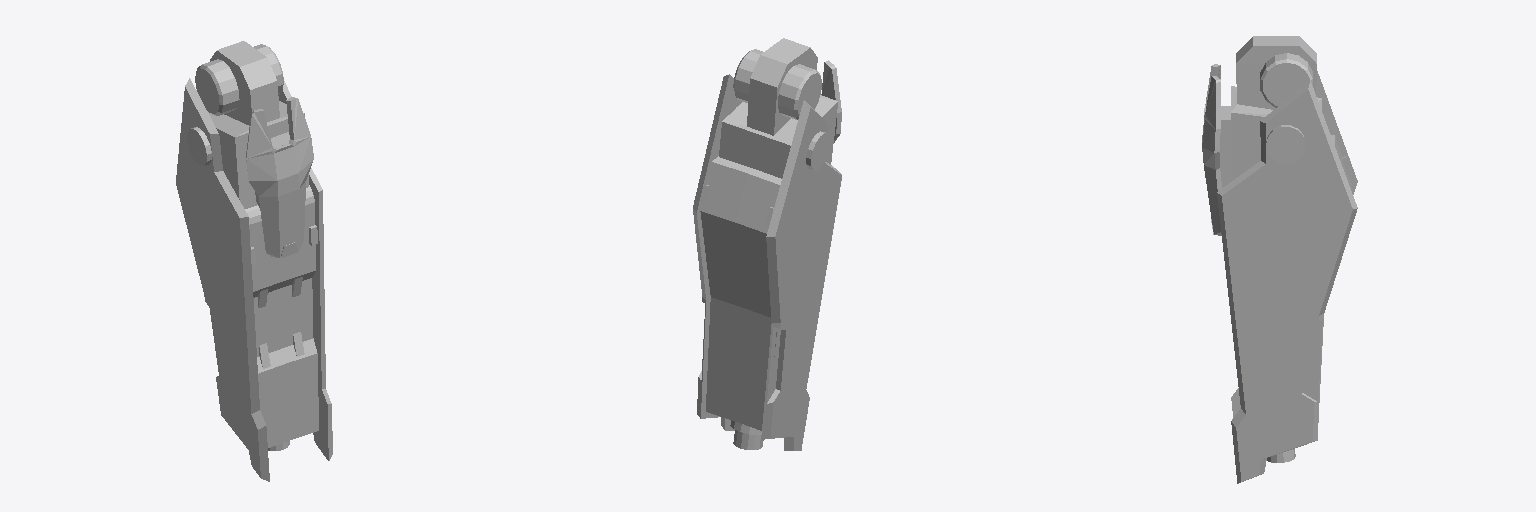
3 views of the same model, side by side, from view 1: azimuth 30°, elevation 25°; view 2: azimuth 150°, elevation 25°; view 3: azimuth 270°, elevation 25° (orthographic).
Visible parts, largest first — view 1: S1 legs polySurface133, S1 legs polySurface129, S1 legs polySurface84, S1 legs polySurface111, S1 legs polySurface132, S1 legs polySurface105, S1 legs polySurface86; view 2: S1 legs polySurface129, S1 legs polySurface133, S1 legs polySurface111, S1 legs polySurface132, S1 legs polySurface105, S1 legs polySurface84, S1 legs polySurface86; view 3: S1 legs polySurface132, S1 legs polySurface111, S1 legs polySurface84, S1 legs polySurface105, S1 legs polySurface86, S1 legs polySurface133, S1 legs polySurface88.
Boxes of the visible parts, x1=… form: S1 legs polySurface133: x1=176, y1=78, x2=269, y2=481; S1 legs polySurface129: x1=245, y1=185, x2=318, y2=447; S1 legs polySurface84: x1=246, y1=97, x2=313, y2=257; S1 legs polySurface111: x1=207, y1=41, x2=308, y2=208; S1 legs polySurface132: x1=278, y1=81, x2=332, y2=460; S1 legs polySurface105: x1=195, y1=44, x2=283, y2=115; S1 legs polySurface86: x1=187, y1=127, x2=211, y2=165; S1 legs polySurface129: x1=700, y1=156, x2=781, y2=430; S1 legs polySurface133: x1=761, y1=100, x2=841, y2=450; S1 legs polySurface111: x1=719, y1=38, x2=837, y2=178; S1 legs polySurface132: x1=693, y1=74, x2=741, y2=430; S1 legs polySurface105: x1=733, y1=49, x2=821, y2=119; S1 legs polySurface84: x1=821, y1=60, x2=841, y2=142; S1 legs polySurface86: x1=736, y1=107, x2=830, y2=170; S1 legs polySurface132: x1=1217, y1=80, x2=1357, y2=483; S1 legs polySurface111: x1=1231, y1=36, x2=1321, y2=179; S1 legs polySurface84: x1=1202, y1=64, x2=1221, y2=235; S1 legs polySurface105: x1=1260, y1=53, x2=1312, y2=107; S1 legs polySurface86: x1=1266, y1=125, x2=1305, y2=163; S1 legs polySurface133: x1=1231, y1=71, x2=1357, y2=417; S1 legs polySurface88: x1=1219, y1=106, x2=1232, y2=187.
Bounding box in the file's own units: 15.28 × 52.78 × 17.84.